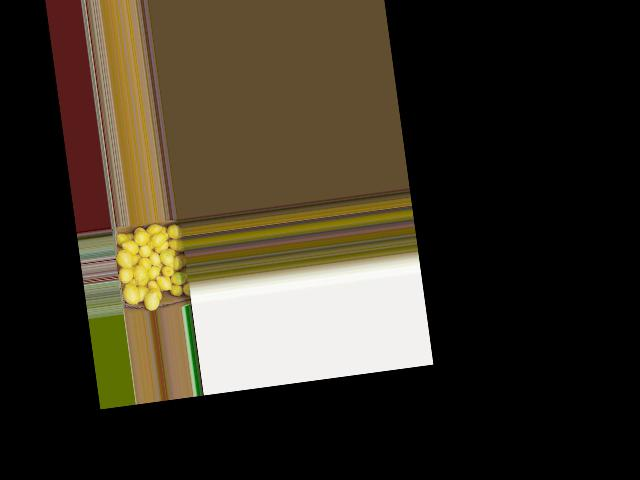lemon: (147, 265, 161, 278)
